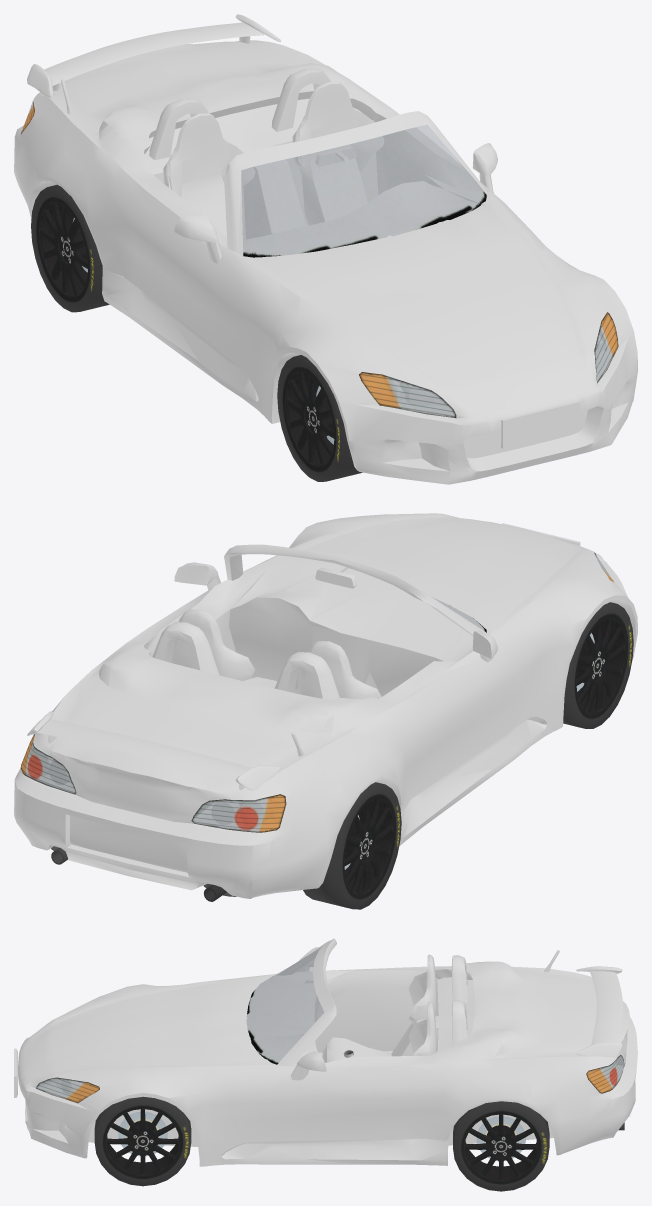
The model's file is S2000CR_eeb24d57191a.glb.
3 renders of one model, top to bottom at view 1: azimuth 30°, elevation 25°; view 2: azimuth 150°, elevation 25°; view 3: azimuth 270°, elevation 25°, orthographic. The views are drawn at different scales.
Visible parts, largest first — view 1: BODY, WHEEL_3, WHEEL_1; view 2: BODY, WHEEL_3, WHEEL_1; view 3: BODY, WHEEL_2, WHEEL_0.
Boxes of the visible parts, x1,y1,x2,y2 form: BODY: (14,14,637,484); WHEEL_3: (31,184,109,312); WHEEL_1: (277,355,362,481); BODY: (14,513,637,901); WHEEL_3: (303,782,401,909); WHEEL_1: (563,602,633,728); BODY: (14,938,637,1166); WHEEL_2: (453,1101,549,1191); WHEEL_0: (94,1096,191,1186).
Bounding box in the file's own units: 1.79 × 1.21 × 4.08.
Materials: 16 (15 with a texture image).
